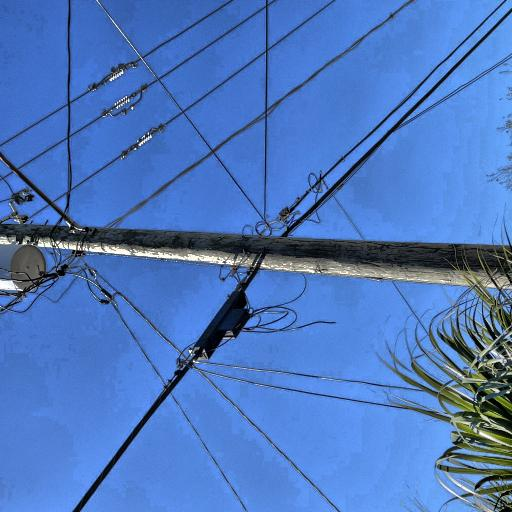pole: (80, 21, 168, 512)
street light: (145, 64, 268, 223)
transformer: (99, 84, 140, 170)
